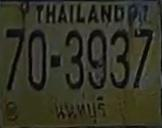0: (27, 29, 46, 90)
3: (109, 30, 129, 88), (64, 30, 83, 89)
7: (5, 28, 25, 92), (133, 28, 152, 88)
9: (87, 30, 106, 88)
NBI: (52, 94, 109, 125)
